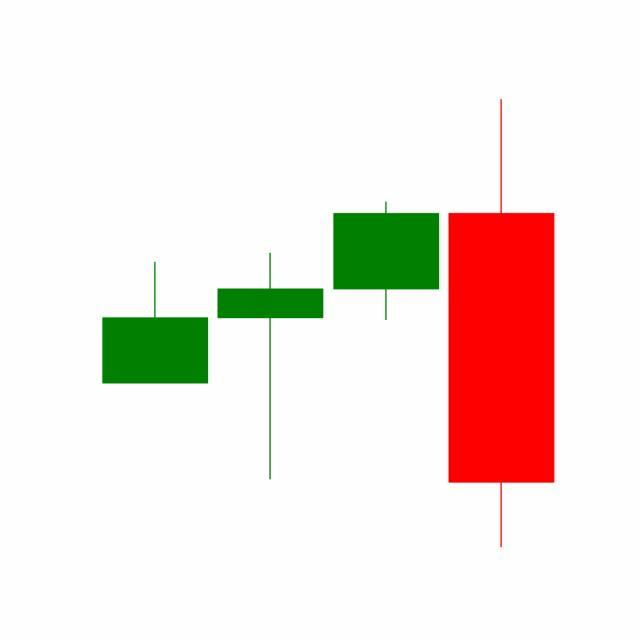Marubozu: (329, 200, 445, 322)
